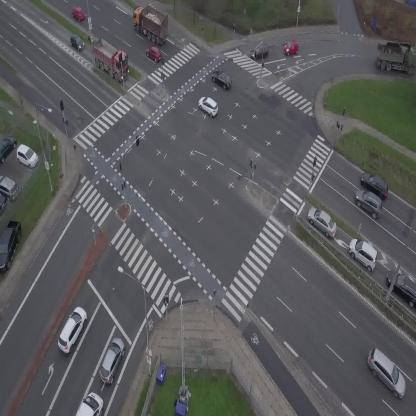car: (359, 345, 415, 401), (53, 304, 91, 355), (95, 335, 129, 386), (343, 234, 384, 273), (302, 203, 343, 241), (350, 184, 388, 220), (357, 169, 393, 200), (195, 93, 222, 118), (209, 68, 235, 91), (65, 32, 87, 54), (144, 43, 164, 64), (69, 5, 87, 23), (249, 45, 269, 60), (282, 40, 300, 56)
lorry: (83, 33, 137, 85), (124, 0, 176, 47), (377, 40, 416, 73), (75, 392, 103, 416)
